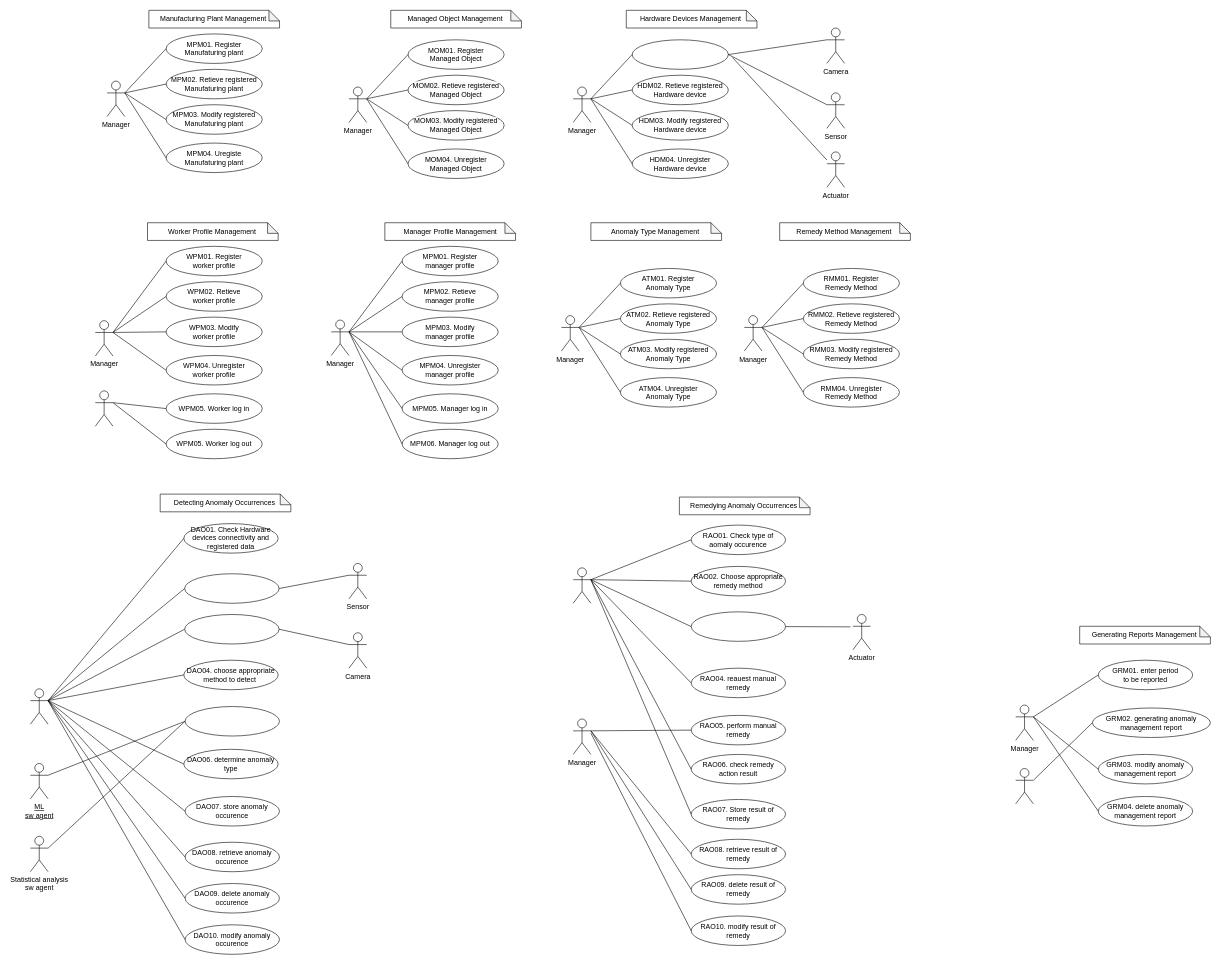
Image size: 1221x965. Some labels were removed from this diagram. Each missing label, with the centre of its shape:
"Anomaly detection sw agent" belongs at (x=39, y=706).
"Anomaly remedy sw agent" belongs at (x=582, y=585).
"DAO02. Acquire Sensor data" belongs at (x=231, y=588).
"DAO03. Acquire Camera data" belongs at (x=231, y=629).
"DAO05. detect anomaly occurence" belongs at (x=231, y=721).
"Generating report sw agent" belongs at (x=1024, y=786).
"HDM01. Register Hardware device" belongs at (x=680, y=54).
"RAO03. Apply selected remedy method" belongs at (x=738, y=626).
"Worker" belongs at (x=104, y=408).
